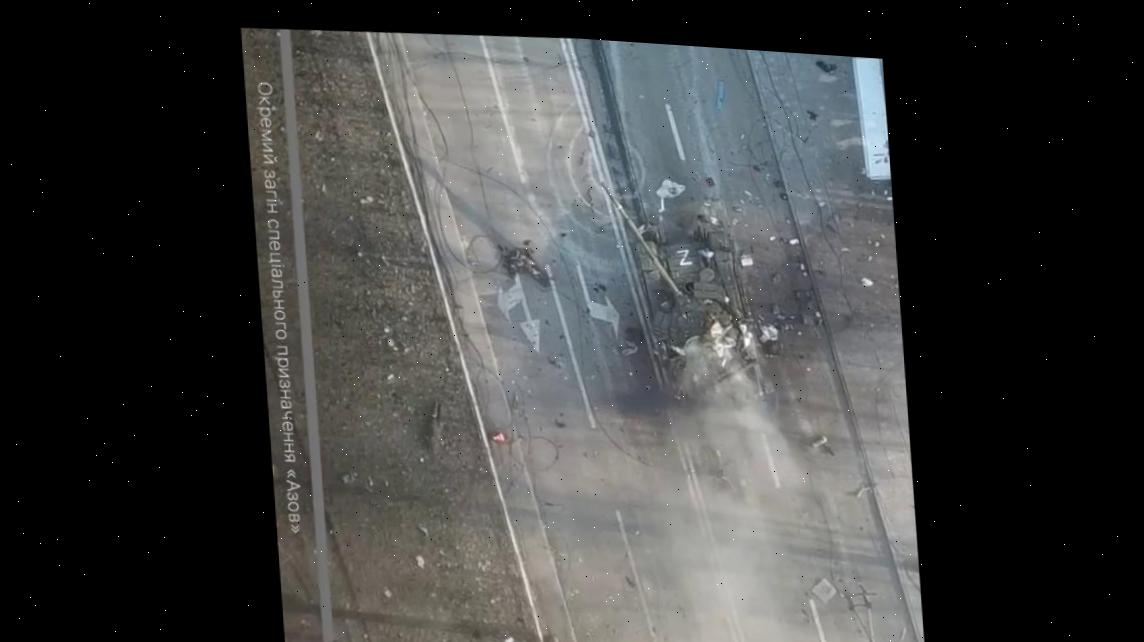tank: (599, 175, 772, 438)
